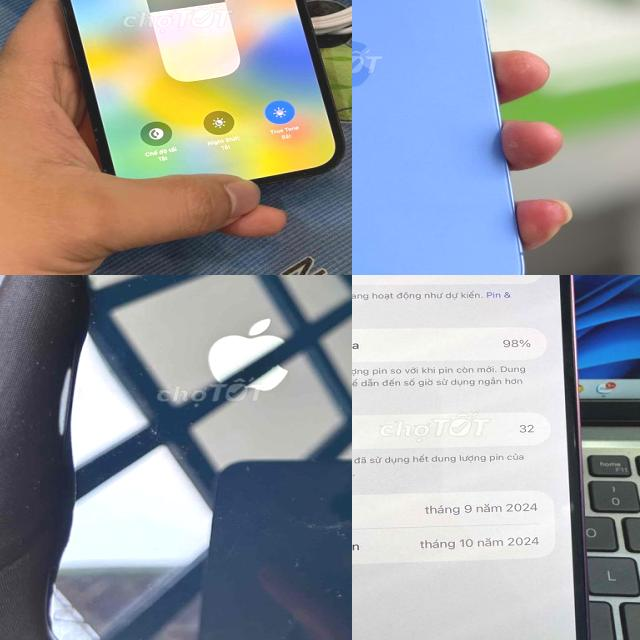gen_12_13: (14, 0, 344, 193)
gen_14: (33, 275, 352, 640)
gen_16: (352, 275, 608, 640), (352, 0, 523, 275)
scratch: (68, 275, 143, 338), (297, 547, 352, 606), (285, 498, 352, 538)
